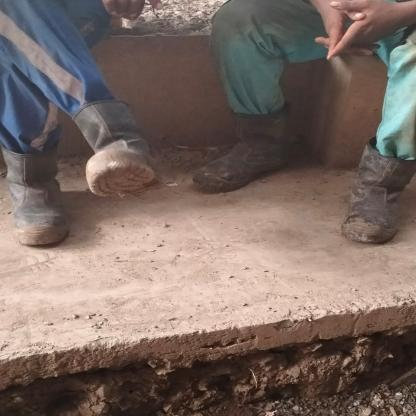bota: (74, 100, 182, 208), (190, 107, 320, 190), (5, 147, 82, 249), (340, 141, 409, 247)
